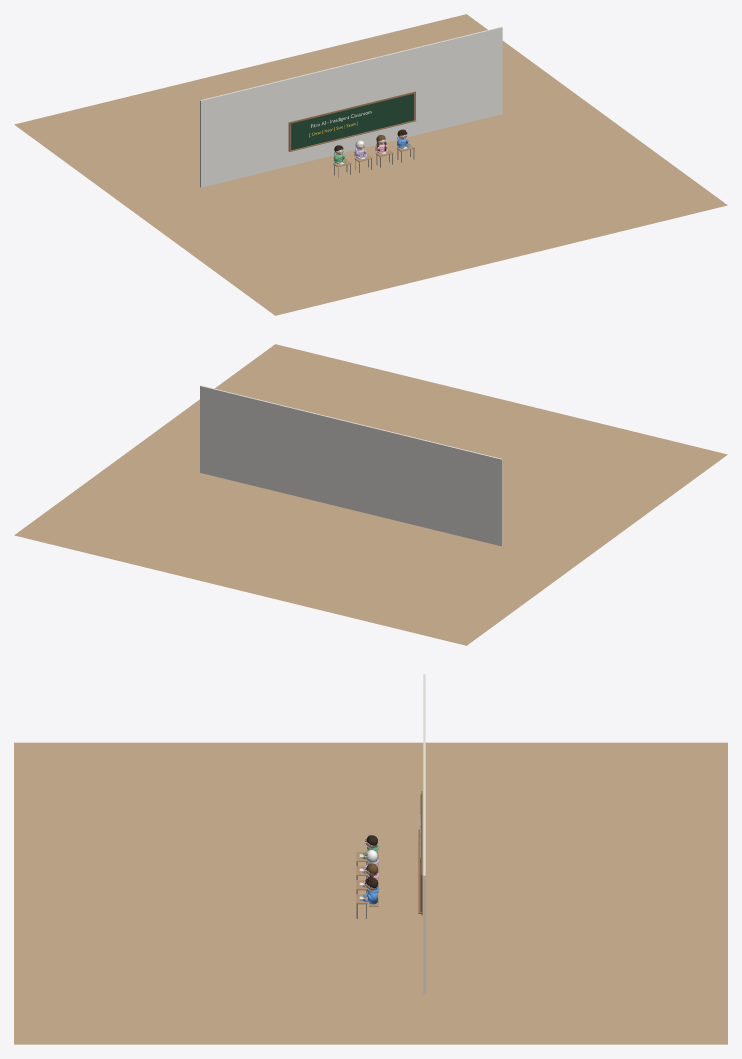
The model's file is realistic_classroom_students.glb.
3 views of the same model, one above another, from view 1: azimuth 30°, elevation 25°; view 2: azimuth 150°, elevation 25°; view 3: azimuth 270°, elevation 25° (orthographic). The views are drawn at different scales.
Visible parts, largest first — view 1: Classroom_Floor, Classroom_BackWall, Classroom_Blackboard; view 2: Classroom_Floor, Classroom_BackWall; view 3: Classroom_Floor, Classroom_BackWall.
Boxes of the visible parts, <box> form: Classroom_Floor: <box>14,14,727,315</box>; Classroom_BackWall: <box>200,26,502,187</box>; Classroom_Blackboard: <box>291,93,413,149</box>; Classroom_Floor: <box>14,344,727,645</box>; Classroom_BackWall: <box>200,385,502,546</box>; Classroom_Floor: <box>14,742,727,1044</box>; Classroom_BackWall: <box>423,674,425,994</box>.
Bounding box in the file's own units: 30 × 6 × 30.
